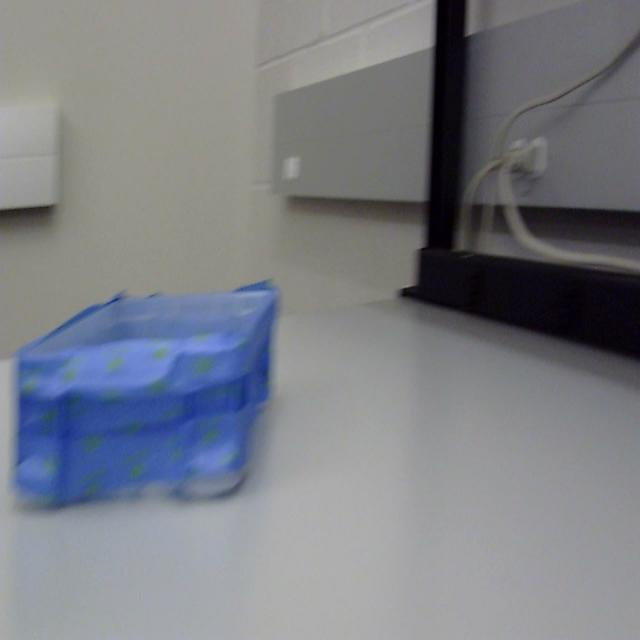bucket: (12, 281, 281, 514)
